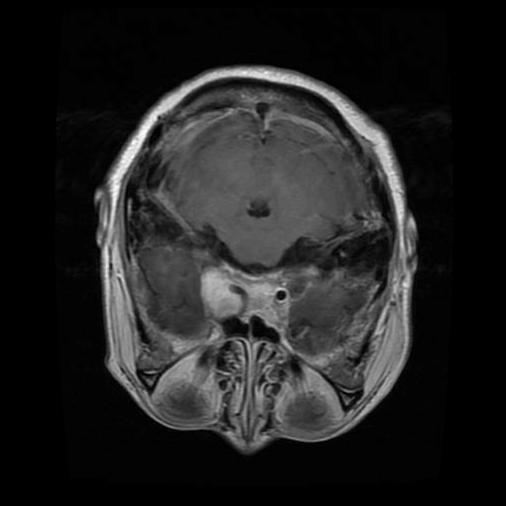Tumour-Pituitary: (185, 240, 312, 338)
